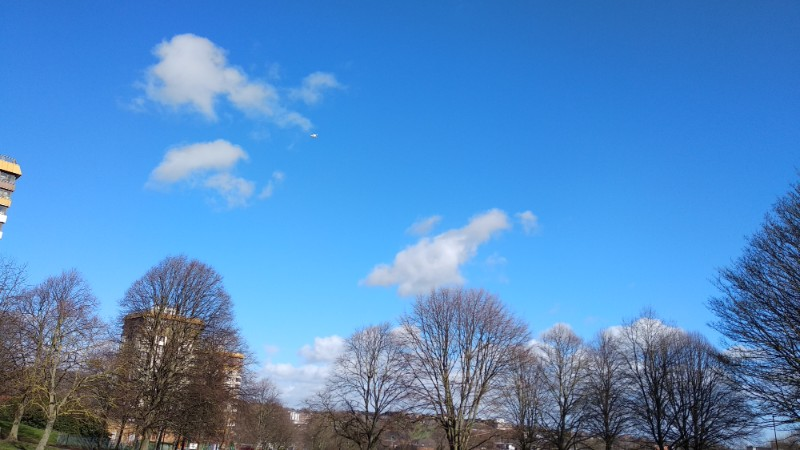drone: (309, 132, 317, 139)
